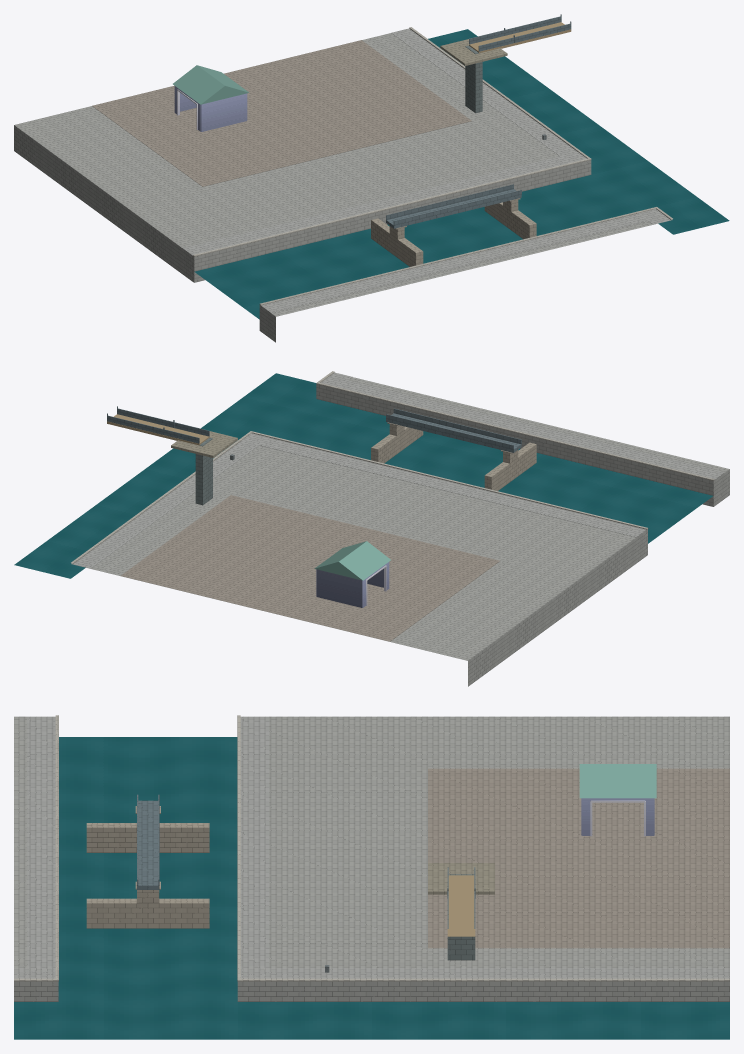
File: canal-0-1.glb
3 views of the same model, one above another, from view 1: azimuth 30°, elevation 25°; view 2: azimuth 150°, elevation 25°; view 3: azimuth 270°, elevation 25° (orthographic). The views are drawn at different scales.
Parts seen in each view (by area): view 1: canal-0-1; view 2: canal-0-1; view 3: canal-0-1.
Boxes of the visible parts, <box> form: canal-0-1: <box>14,14,729,342</box>; canal-0-1: <box>14,371,729,686</box>; canal-0-1: <box>14,715,729,1039</box>.
Size of the model in its own units: 128 by 25.4 by 128.
Materials: 19 (19 with a texture image).
